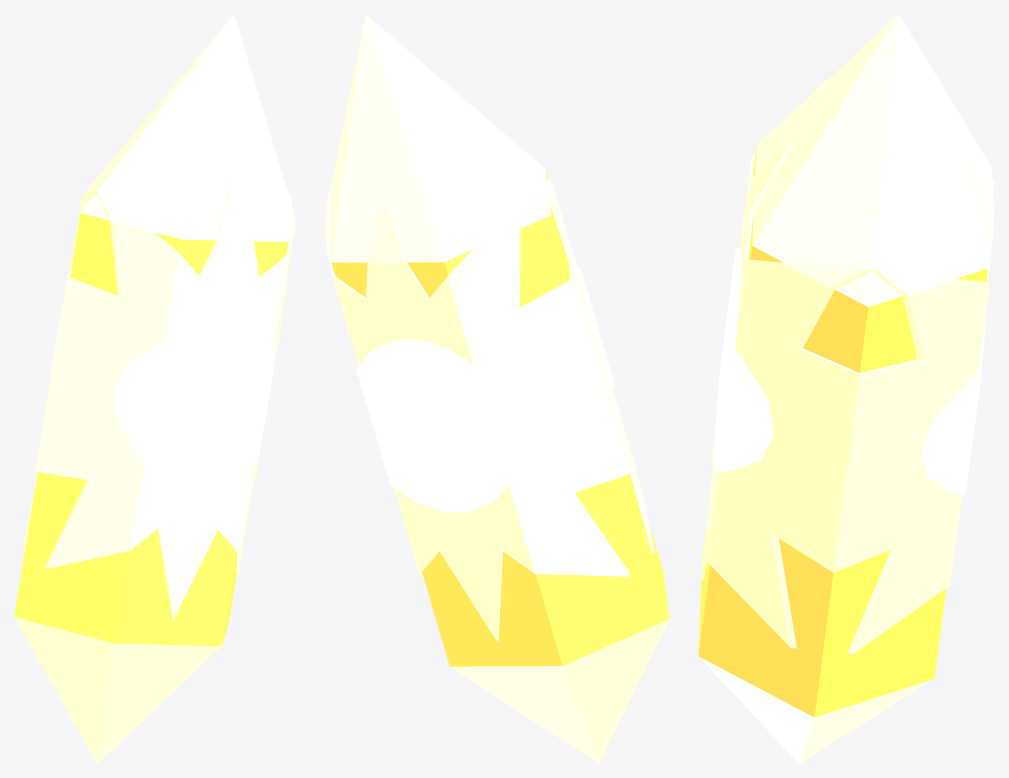
The model's file is sol_shard.glb.
3 renders of one model, left to right at view 1: azimuth 30°, elevation 25°; view 2: azimuth 150°, elevation 25°; view 3: azimuth 270°, elevation 25°, orthographic. The views are drawn at different scales.
Visible parts, largest first — view 1: sol_shard; view 2: sol_shard; view 3: sol_shard.
Part boxes in pixels (x1,y1,x2,y2): sol_shard: [14, 14, 295, 763]; sol_shard: [324, 14, 669, 763]; sol_shard: [698, 14, 994, 763].
Size of the model in its own units: 0.1109 by 0.24 by 0.075.
